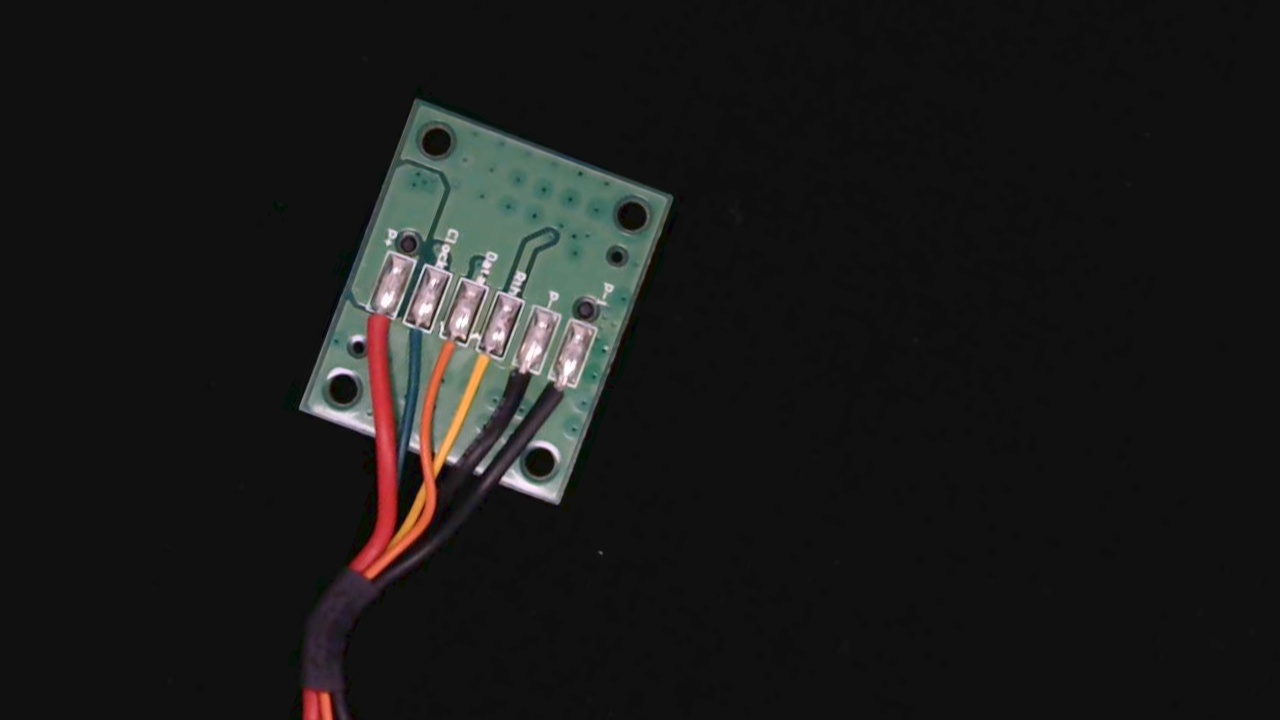Black: (496, 347, 546, 412)
Black1: (533, 360, 582, 427)
Green: (386, 305, 438, 370)
Orange: (419, 318, 472, 392)
Red: (350, 290, 403, 364)
Yellow: (459, 334, 509, 403)
